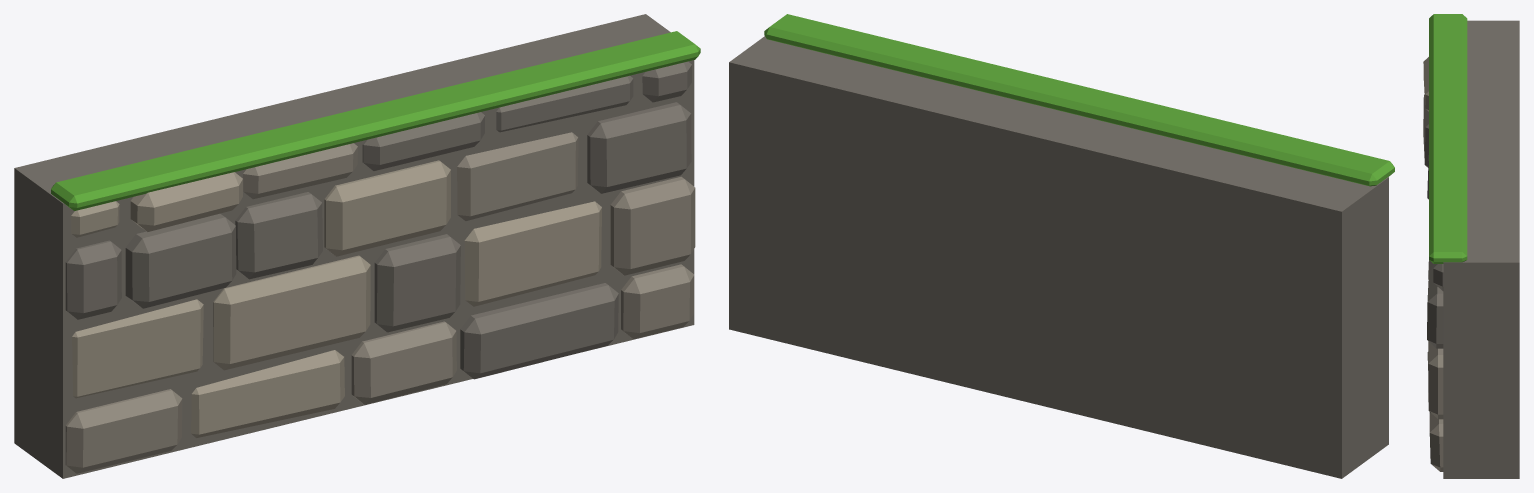
File: paredao.glb
3 renders of one model, left to right at view 1: azimuth 30°, elevation 25°; view 2: azimuth 150°, elevation 25°; view 3: azimuth 270°, elevation 25°, orthographic. The views are drawn at different scales.
Visible parts, largest first — view 1: paredao; view 2: paredao; view 3: paredao.
Part boxes in pixels (bbox=[...]): paredao: bbox=[14, 14, 700, 478]; paredao: bbox=[729, 14, 1394, 478]; paredao: bbox=[1423, 14, 1519, 478].
Bounding box in the file's own units: 6 × 2.6 × 1.01.
